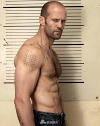male: (37, 1, 70, 46)
